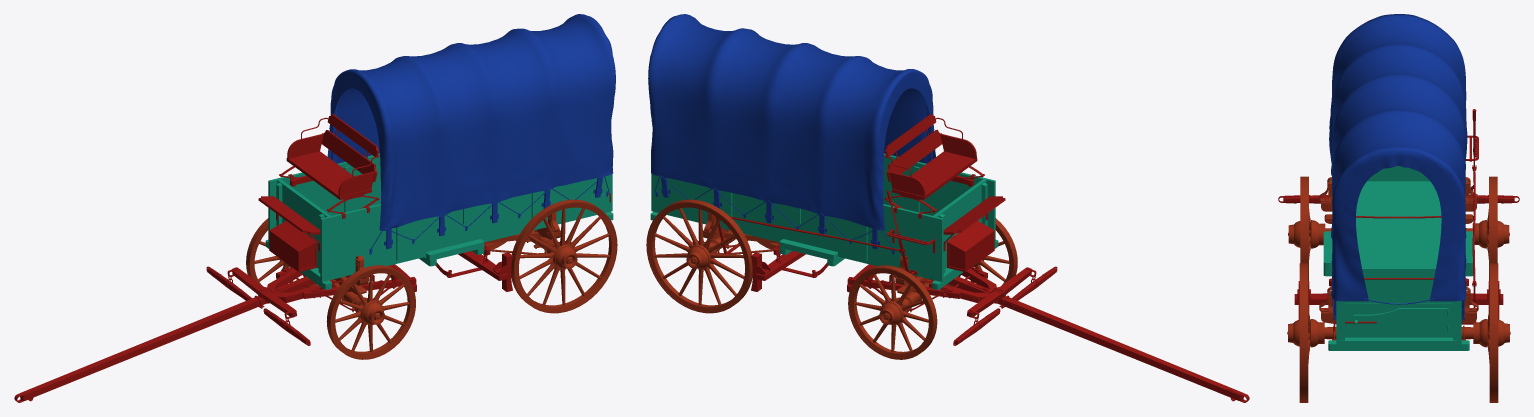
The model's file is Farm_Wagon.obj.
3 views of the same model, side by side, from view 1: azimuth 30°, elevation 25°; view 2: azimuth 150°, elevation 25°; view 3: azimuth 270°, elevation 25° (orthographic). The views are drawn at different scales.
Parts seen in each view (by area): view 1: Wagon; view 2: Wagon; view 3: Wagon.
Boxes of the visible parts, x1,y1,x2,y2 form: Wagon: (14,14,617,402); Wagon: (646,14,1249,402); Wagon: (1278,14,1519,402).
Size of the model in its own units: 642 by 262 by 198.
